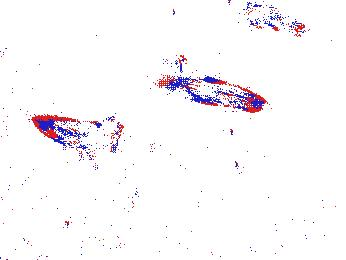X-ray fish: (139, 127, 217, 170), (117, 171, 135, 214)
red belly glassfish: (160, 52, 190, 70)
redtail glassfish: (161, 71, 268, 114), (31, 113, 131, 156), (238, 1, 315, 40)
